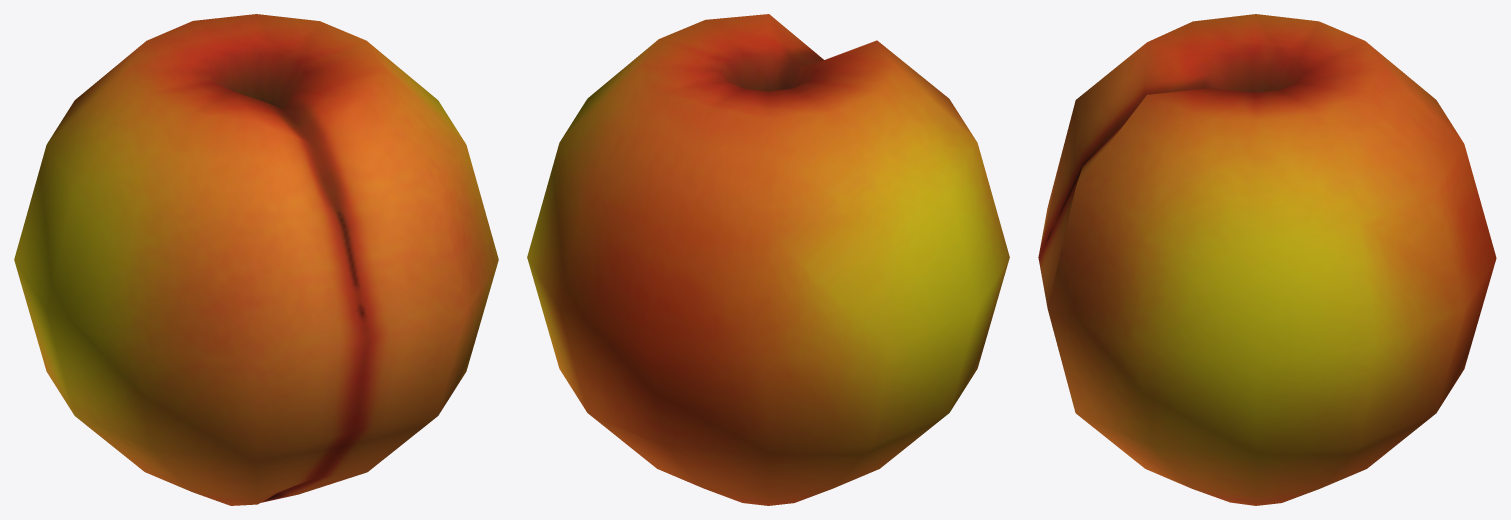
Rendered from peach.fbx.
3 views of the same model, side by side, from view 1: azimuth 30°, elevation 25°; view 2: azimuth 150°, elevation 25°; view 3: azimuth 270°, elevation 25° (orthographic).
Parts seen in each view (by area): view 1: peach; view 2: peach; view 3: peach.
Part boxes in pixels (x1=…): peach: x1=14, y1=14, x2=498, y2=505; peach: x1=527, y1=14, x2=1009, y2=505; peach: x1=1038, y1=14, x2=1496, y2=505.
Bounding box in the file's own units: 182 × 181 × 173.
1 material, 1 textured.
